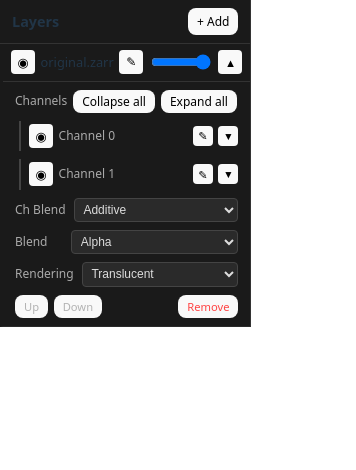
Scenario: LayerPanel per-channel collapse › the toggle is a real disclosure button, aria-expanded=false by default
Click the button named "Expand channel Channel 0": (228, 136) top-left (218, 126), bottom-right (238, 146)
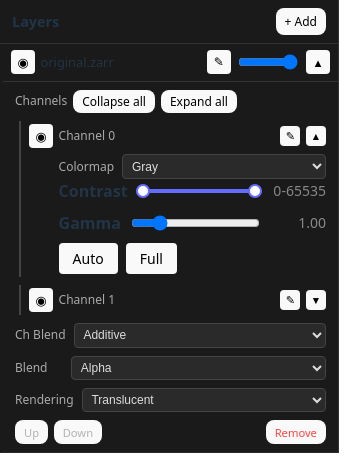
Expected: the button named "Collapse channel Channel 0" is expanded, top-left (306, 126), bottom-right (326, 146)
